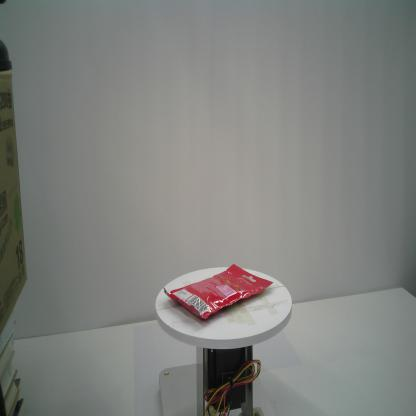Candy: (164, 264, 274, 320)
